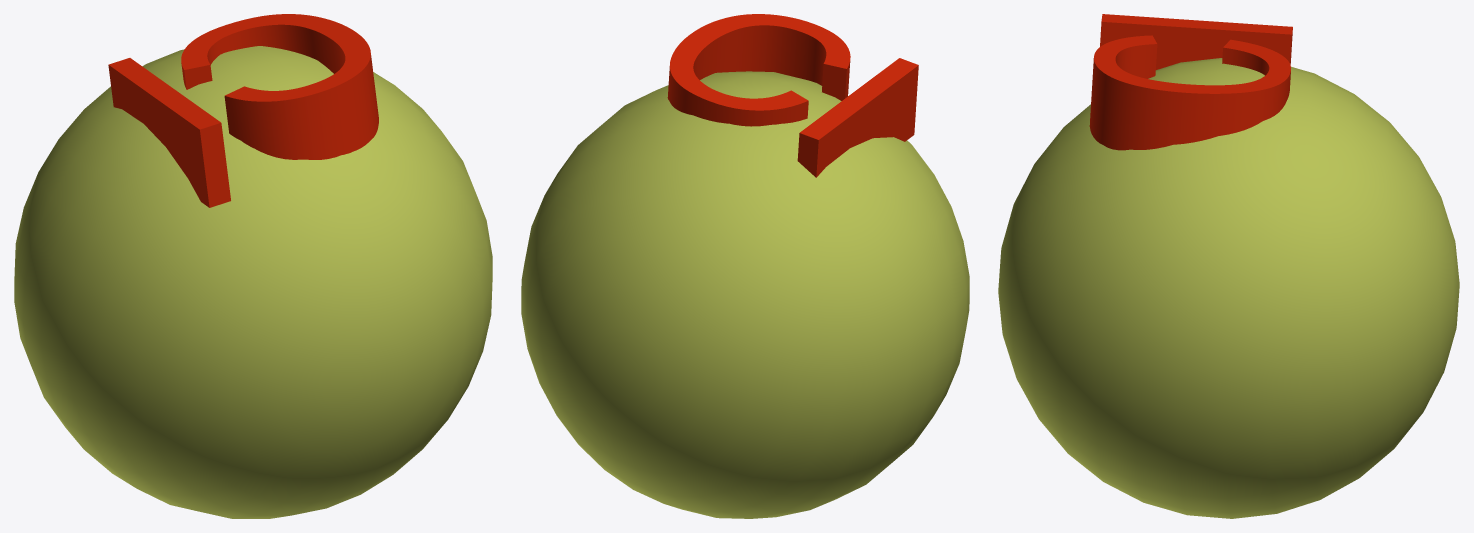
3 views of the same model, side by side, from view 1: azimuth 30°, elevation 25°; view 2: azimuth 150°, elevation 25°; view 3: azimuth 270°, elevation 25° (orthographic). The views are drawn at different scales.
Parts seen in each view (by area): view 1: Cl; view 2: Cl; view 3: Cl.
Part boxes in pixels (<box>): Cl: <box>14,14,492,518</box>; Cl: <box>521,14,969,518</box>; Cl: <box>998,14,1459,518</box>.
Bounding box in the file's own units: 38.6 × 41.02 × 38.7.
